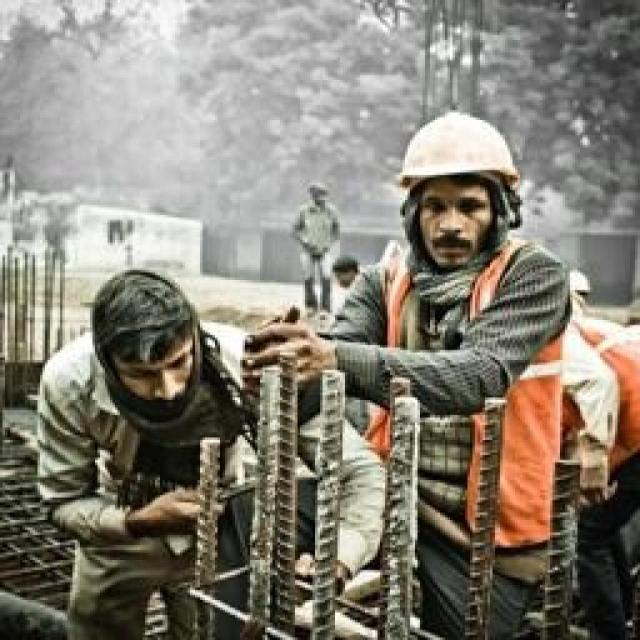Helmet: (15, 331, 311, 529), (92, 244, 210, 442), (378, 92, 550, 226), (325, 252, 370, 298), (302, 174, 338, 212)
Safety Vest: (350, 222, 564, 532), (517, 270, 640, 497), (280, 204, 338, 282)
